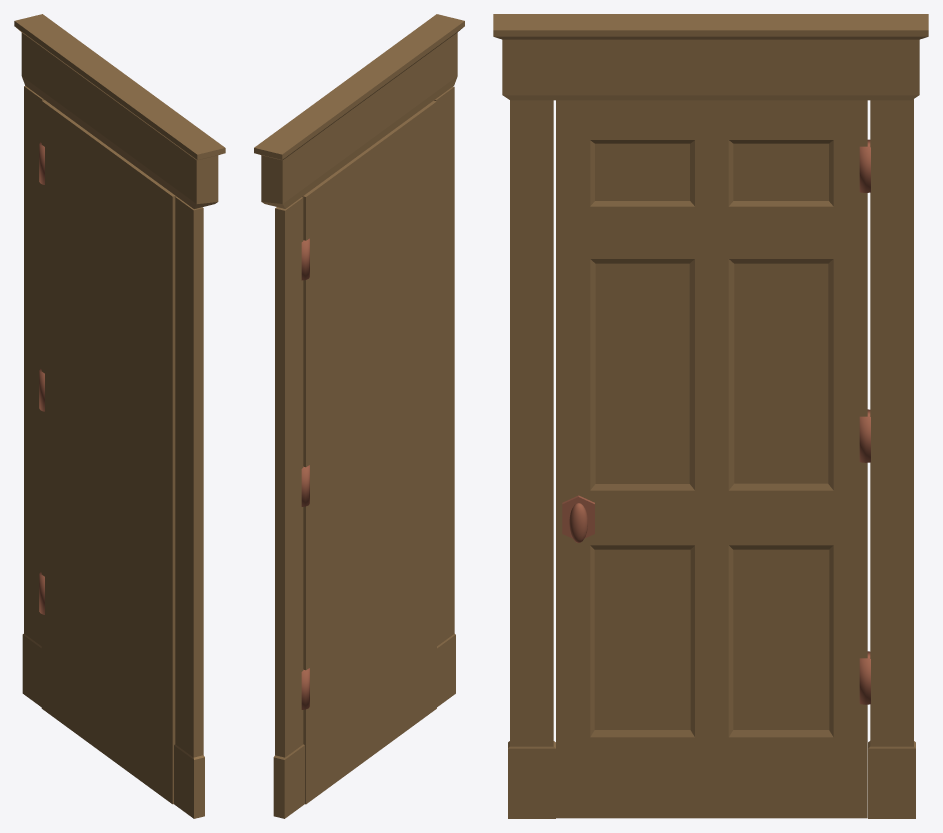
The model's file is WoodDoor 1.fbx.
3 renders of one model, left to right at view 1: azimuth 30°, elevation 25°; view 2: azimuth 150°, elevation 25°; view 3: azimuth 270°, elevation 25°, orthographic. The views are drawn at different scales.
Parts seen in each view (by area): view 1: Cube, Cube.002, Cube.004, Cube.003; view 2: Cube, Cube.003, Cube.004, Cube.002; view 3: Cube, Cube.004, Cube.002, Cube.003.
Part boxes in pixels (x1,y1,x2,y2): Cube: [41, 100, 176, 804]; Cube.002: [174, 196, 204, 818]; Cube.004: [14, 14, 225, 208]; Cube.003: [22, 86, 44, 706]; Cube: [302, 100, 436, 804]; Cube.003: [273, 197, 304, 818]; Cube.004: [254, 14, 464, 208]; Cube.002: [434, 86, 455, 706]; Cube: [556, 100, 867, 818]; Cube.004: [493, 14, 928, 100]; Cube.002: [508, 100, 555, 818]; Cube.003: [868, 99, 915, 818].
Bounding box in the file's own units: 10.98 × 226 × 112.
